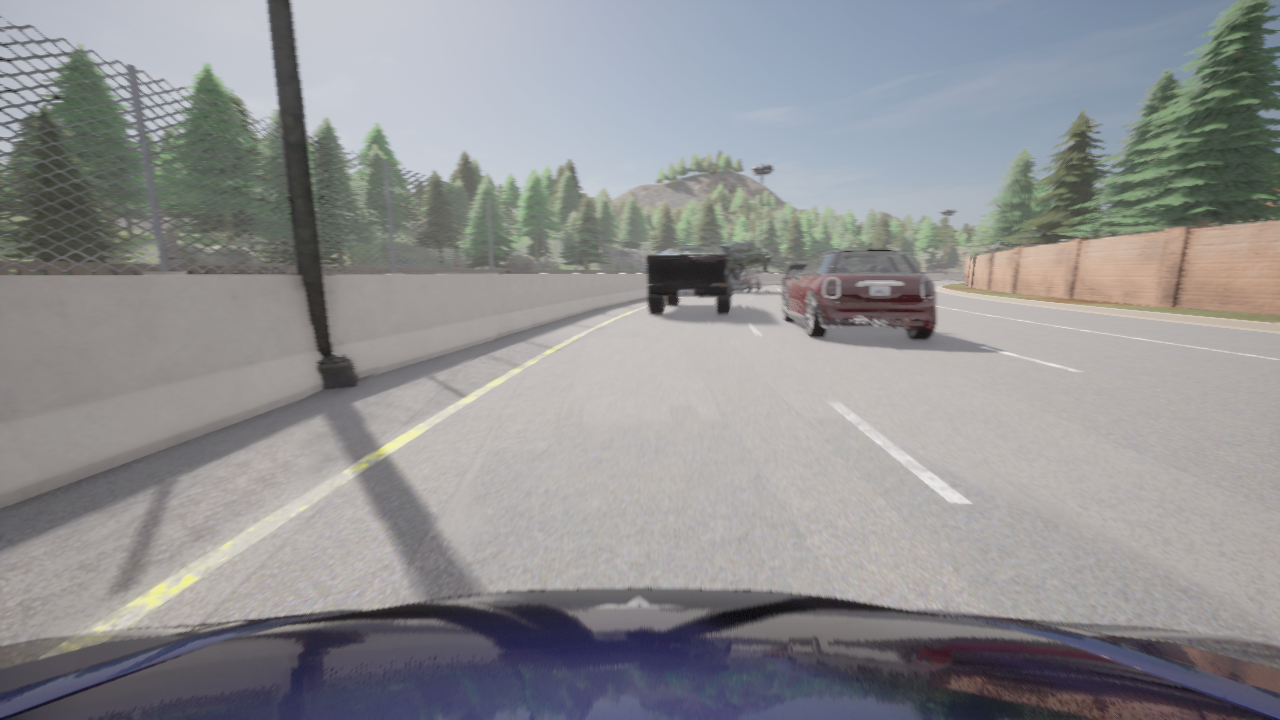cyclist: (0, 588, 1279, 719), (782, 243, 936, 339), (648, 246, 731, 314), (712, 241, 772, 280), (782, 262, 809, 291), (730, 270, 760, 291)
